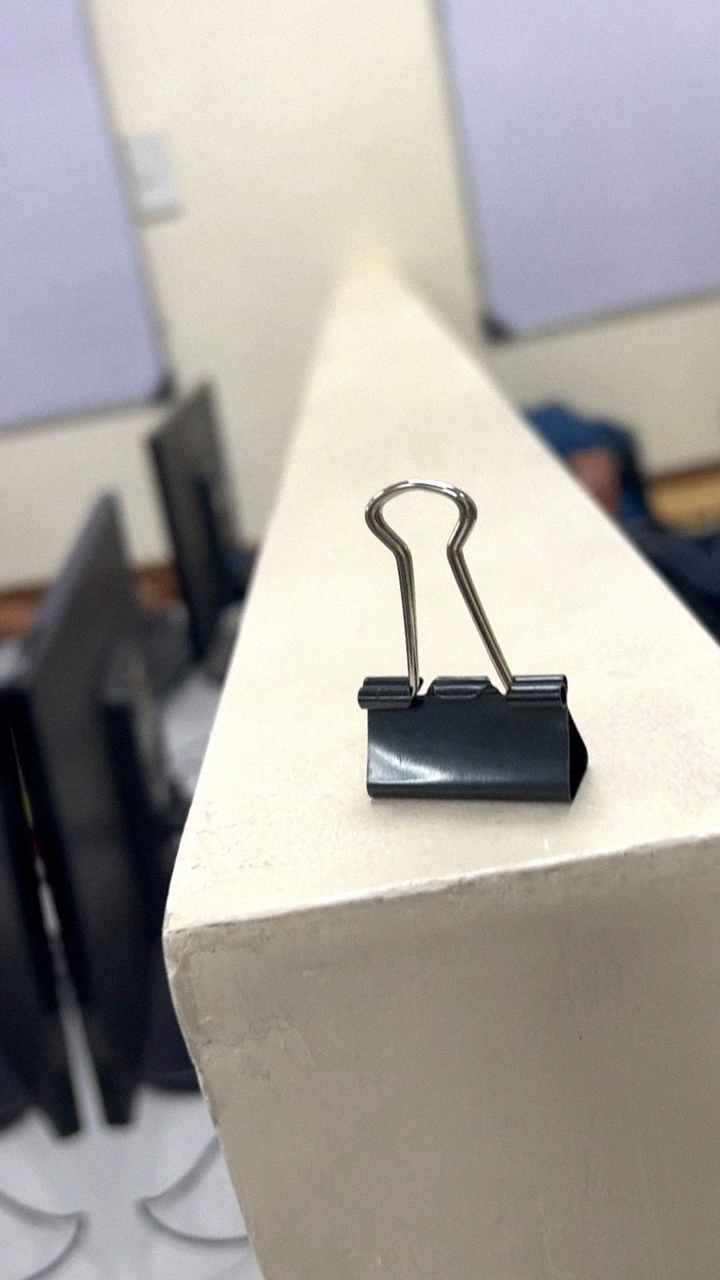kep_giay: (302, 449, 603, 840)
